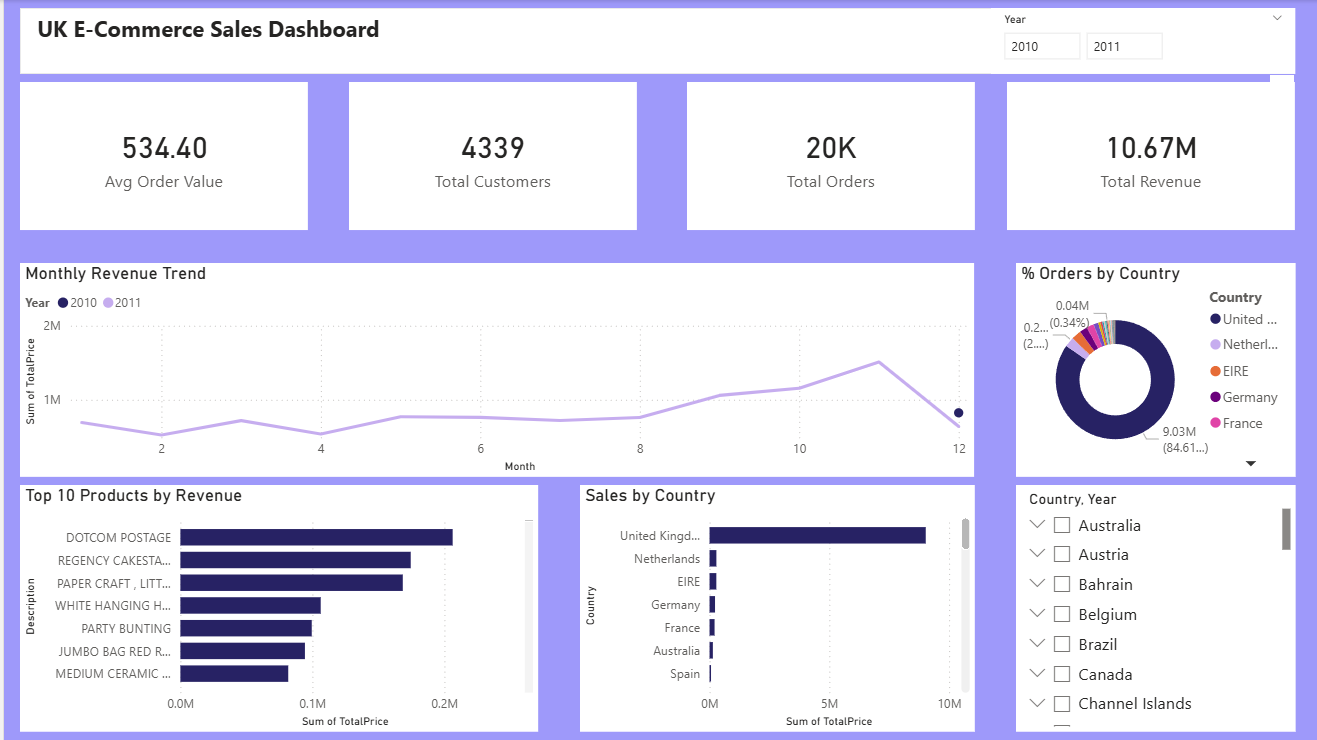

This screenshot's page, from the dashboard's own definition file:
{"tool":"powerbi","page":{"name":"Page 1","canvas":[1280,720],"ordinal":0},"visuals":[{"type":"card","fields":{"Values":["Data.Avg Order Value"]},"box":[16,80,280,144],"z":0},{"type":"lineChart","title":"Monthly Revenue Trend","fields":{"Y":["Sum(Data.TotalPrice)"],"Series":["Data.Year"],"Category":["Data.Month"]},"box":[16,256,928,208],"z":1000},{"type":"barChart","title":"Top 10 Products by Revenue","fields":{"Category":["Data.Description"],"Y":["Sum(Data.TotalPrice)"]},"box":[16,472,504,240],"z":2000},{"type":"barChart","title":"Sales by Country","fields":{"Y":["Sum(Data.TotalPrice)"],"Category":["Data.Country"]},"box":[560,472,384,240],"z":3000},{"type":"donutChart","title":"% Orders by Country","fields":{"Category":["Data.Country"],"Y":["Sum(Data.TotalPrice)"]},"box":[984,256,272,208],"z":4000},{"type":"slicer","fields":{"Values":["Data.Year"]},"box":[1328,768,272,128],"z":5000},{"type":"textbox","box":[16,8,1240,64],"z":6000},{"type":"card","fields":{"Values":["Data.Total Orders"]},"box":[664,80,280,144],"z":7000},{"type":"card","fields":{"Values":["Data.Total Customers"]},"box":[336,80,280,144],"z":8000},{"type":"card","fields":{"Values":["Data.Total Revenue"]},"box":[976,80,280,144],"z":9000},{"type":"slicer","fields":{"Values":["Data.Country","Data.Year"]},"box":[984,472,272,240],"z":10000},{"type":"slicer","fields":{"Values":["Data.Year"]},"box":[960,8,296,64],"z":11000}]}

Visuals, with their boxes in screenshot pixels (x1, y1, x2, y2), scaled from the page's 1280x720 canvas onto the 1317x740 screenshot:
card - Data.Avg Order Value: l=16, t=82, r=305, b=230
"Monthly Revenue Trend" lineChart: l=16, t=263, r=971, b=477
"Top 10 Products by Revenue" barChart: l=16, t=485, r=535, b=732
"Sales by Country" barChart: l=576, t=485, r=971, b=732
"% Orders by Country" donutChart: l=1012, t=263, r=1292, b=477
textbox: l=16, t=8, r=1292, b=74
card - Data.Total Orders: l=683, t=82, r=971, b=230
card - Data.Total Customers: l=346, t=82, r=634, b=230
card - Data.Total Revenue: l=1004, t=82, r=1292, b=230
slicer - Data.Country x Data.Year: l=1012, t=485, r=1292, b=732
slicer - Data.Year: l=988, t=8, r=1292, b=74
